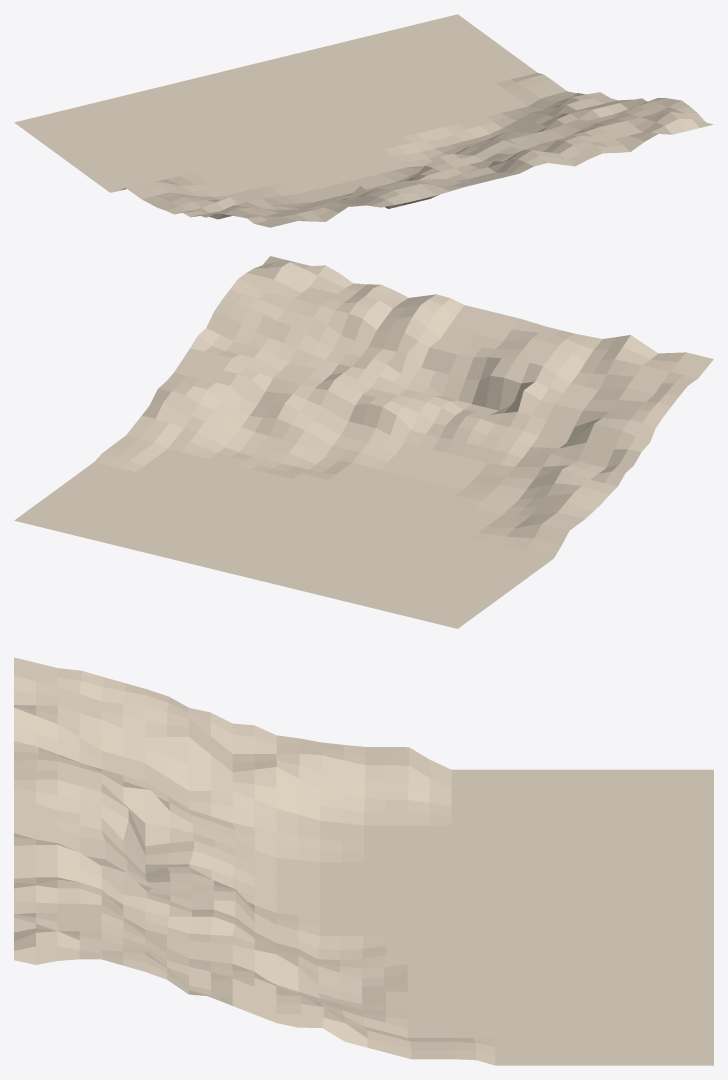
File: Ground 2.fbx
3 views of the same model, one above another, from view 1: azimuth 30°, elevation 25°; view 2: azimuth 150°, elevation 25°; view 3: azimuth 270°, elevation 25° (orthographic). The views are drawn at different scales.
Parts seen in each view (by area): view 1: Surface; view 2: Surface; view 3: Surface.
Part boxes in pixels (bbox=[...]): Surface: bbox=[14, 14, 713, 227]; Surface: bbox=[14, 256, 713, 628]; Surface: bbox=[14, 657, 713, 1065].
Bounding box in the file's own units: 15151 × 2924 × 15145.
